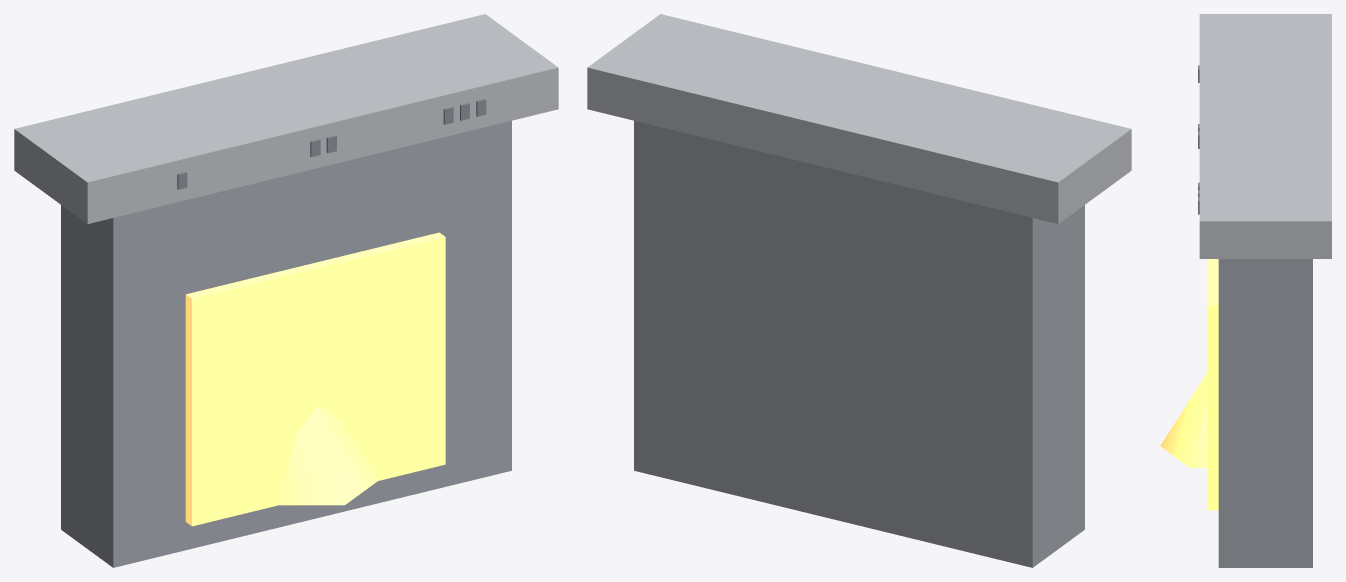
Rendered from hearth-lit.gltf.
3 renders of one model, left to right at view 1: azimuth 30°, elevation 25°; view 2: azimuth 150°, elevation 25°; view 3: azimuth 270°, elevation 25°, orthographic. The views are drawn at different scales.
Parts seen in each view (by area): view 1: Surround, Mantel, Opening, Flame; view 2: Surround, Mantel; view 3: Mantel, Surround, Opening, Flame.
Boxes of the visible parts, x1,y1,x2,y2 form: Surround: [61, 120, 511, 567]; Mantel: [14, 14, 558, 224]; Opening: [185, 232, 445, 526]; Flame: [269, 405, 378, 505]; Surround: [634, 120, 1084, 567]; Mantel: [587, 14, 1131, 224]; Mantel: [1199, 14, 1331, 258]; Surround: [1218, 259, 1312, 567]; Opening: [1207, 259, 1218, 510]; Flame: [1160, 373, 1207, 467].
Size of the model in its own units: 2.6 by 2.12 by 0.91.
